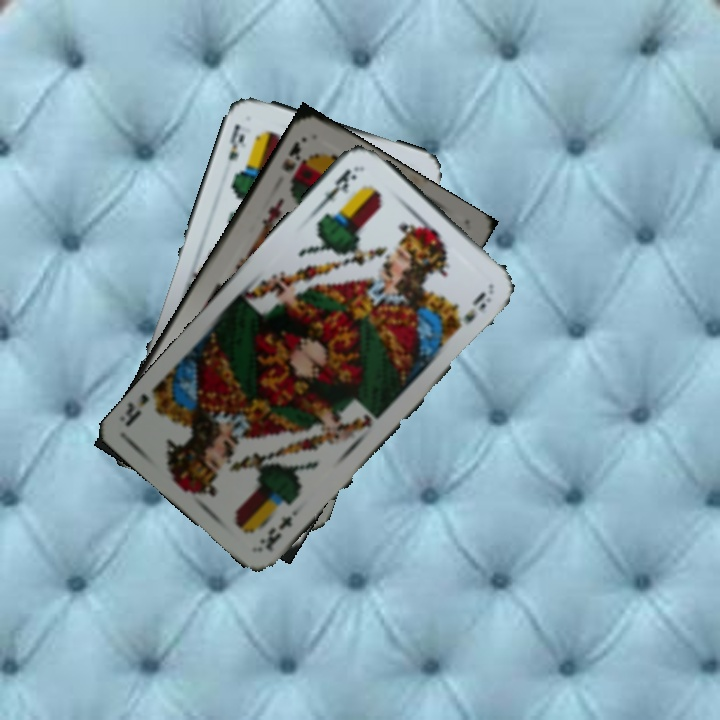EK: (256, 501, 304, 555), (314, 164, 360, 211), (224, 120, 249, 164)
SK: (277, 137, 308, 185)
